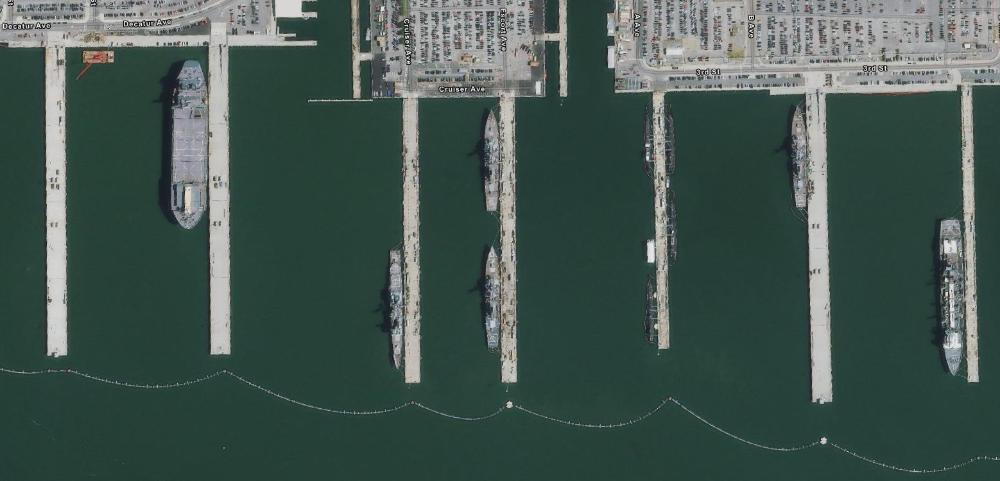cruiser: (388, 249, 408, 371)
fregate: (788, 103, 816, 215), (484, 245, 507, 354), (481, 107, 502, 217)
submarine: (666, 183, 682, 262), (663, 102, 679, 176), (646, 278, 662, 349), (640, 109, 657, 168)
supply: (168, 53, 212, 236)
tender: (939, 216, 968, 381)
